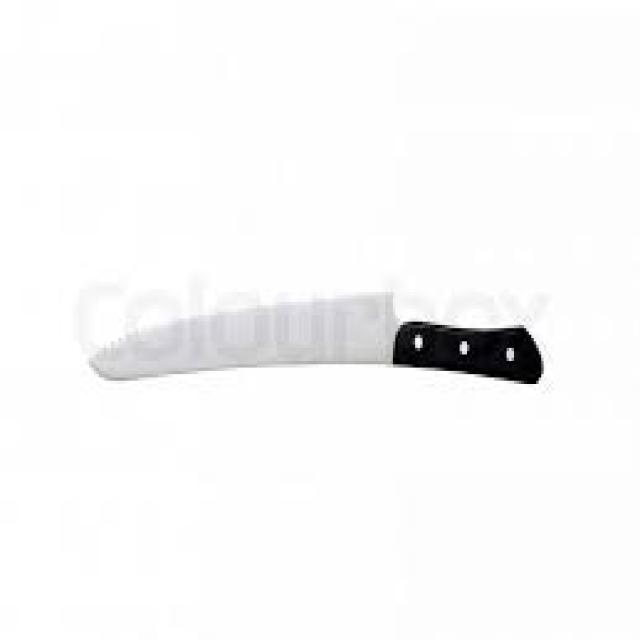Knife: (84, 286, 544, 384)
